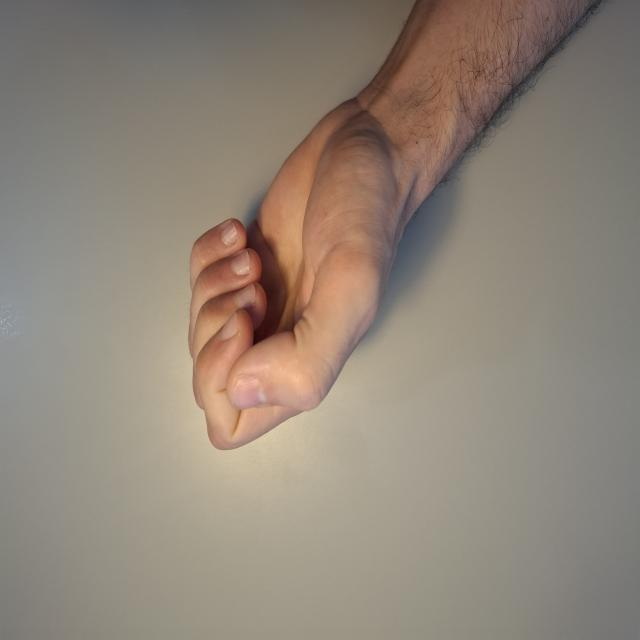glove_off: (185, 76, 422, 452)
